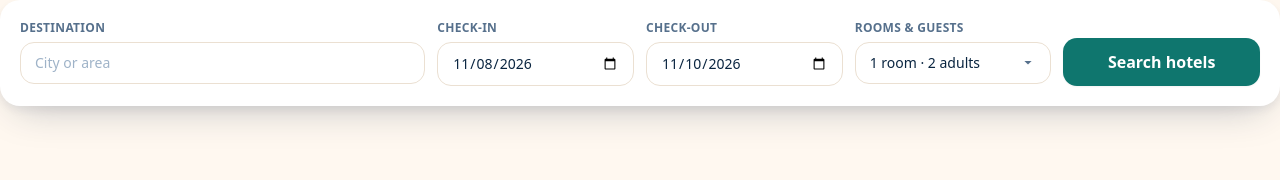
it: DestinationAutocomplete › suggests matching destinations as the user types
The image size is (1280, 180).
Type "mum" into the dropdown with test id "destination-input" at {"x": 223, "y": 63}, box left=20, top=42, right=425, bottom=84
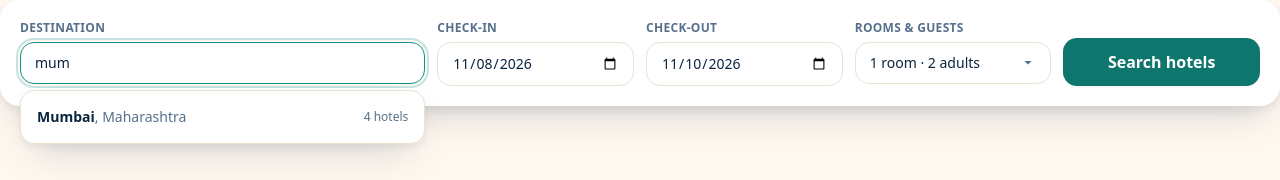
Expected: the text "Mumbai" is shown, left=37, top=107, right=95, bottom=126
